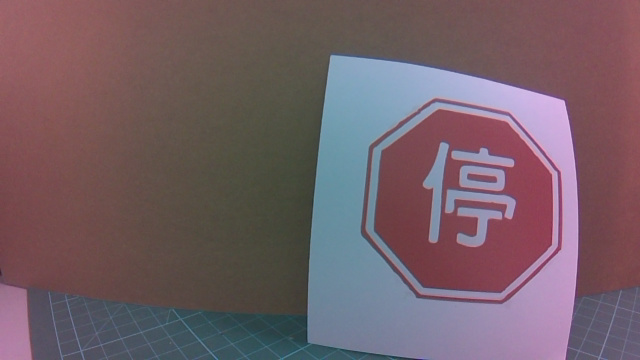stop: (356, 102, 552, 308)
